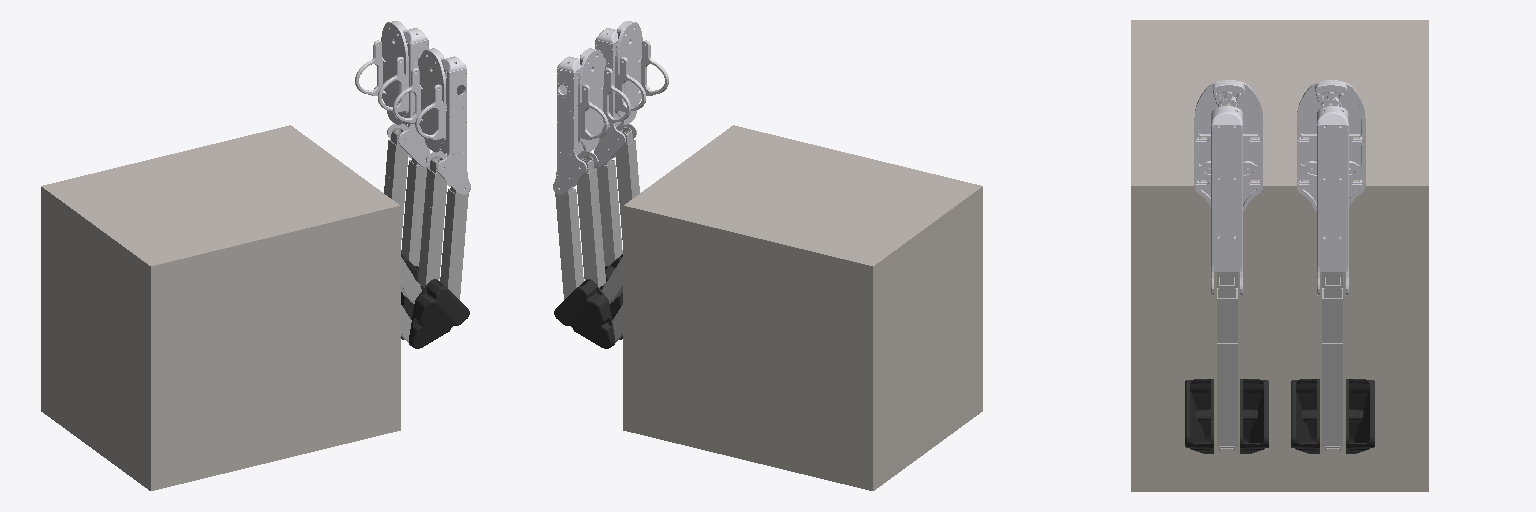
--- What the picture shows (computed from the rendered views, not written in the file) ---
Views: 3 orthographic renders of the robot side by side, from view 1: azimuth 30°, elevation 25°; view 2: azimuth 150°, elevation 25°; view 3: azimuth 270°, elevation 25°.
Model kp07_v11 with 27 links and 26 joints (18 revolute, 8 prismatic), rooted at base_link, posed every joint at zero.
Visible links, largest first — view 1: base_link, gr_link, ir_link, il_link, dr_link, er1_link, er2_link, el2_link, gl_link, el1_link; view 2: base_link, gl_link, il_link, ir_link, dl_link, el1_link, el2_link, er2_link, gr_link, er1_link; view 3: base_link, gr_link, gl_link, ir_link, il_link, dr_link, dl_link, er2_link, el2_link.
Boxes of the visible links, box(x1,y1,x2,y2) form: base_link: box(41, 125, 400, 490); gr_link: box(426, 56, 470, 194); ir_link: box(393, 48, 445, 152); il_link: box(355, 21, 408, 124); dr_link: box(401, 266, 469, 348); er1_link: box(418, 168, 446, 287); er2_link: box(440, 189, 468, 299); el2_link: box(401, 160, 429, 266); gl_link: box(387, 28, 429, 166); el1_link: box(384, 139, 407, 239); base_link: box(623, 125, 982, 490); gl_link: box(553, 56, 597, 194); il_link: box(578, 48, 630, 152); ir_link: box(615, 21, 668, 124); dl_link: box(554, 266, 622, 348); el1_link: box(577, 168, 605, 287); el2_link: box(555, 189, 583, 299); er2_link: box(594, 160, 622, 266); gr_link: box(594, 28, 636, 166); er1_link: box(616, 139, 639, 239); base_link: box(1131, 20, 1428, 491); gr_link: box(1211, 106, 1242, 295); gl_link: box(1317, 106, 1348, 295); ir_link: box(1194, 80, 1262, 211); il_link: box(1297, 80, 1365, 211); dr_link: box(1185, 379, 1268, 453); dl_link: box(1291, 379, 1374, 453); er2_link: box(1217, 288, 1237, 446); el2_link: box(1322, 288, 1342, 446).
Bounding box of the posed robot: 1.32 × 0.7175 × 1.21 m (x, y, z).
27 mesh visuals loaded from 27 distinct referenced files (27 binary STL).

URDF robot description (kp07_v11):
<?xml version="1.0" encoding="utf-8"?>
<!-- This URDF was automatically created by SolidWorks to URDF Exporter! Originally created by Stephen Brawner ([email redacted]) 
     Commit Version: 1.5.1-0-g916b5db  Build Version: 1.5.7152.31018
     For more information, please see http://wiki.ros.org/sw_urdf_exporter -->
<robot
  name="kp07_v11">
  <link
    name="base_link">
    <inertial>
      <origin
        xyz="0.104347088258263 -1.31663141229483E-05 0.412877049618646"
        rpy="0 0 0" />
      <mass
        value="63.617784647431" />
      <inertia
        ixx="2.30613127339914"
        ixy="-3.23512682348357E-06"
        ixz="0.00647034815101378"
        iyy="2.55487605799257"
        iyz="2.15081310232745E-05"
        izz="3.51350110023049" />
    </inertial>
    <visual>
      <origin
        xyz="0 0 0"
        rpy="0 0 0" />
      <geometry>
        <mesh
          filename="package://kp07_v11/meshes/base_link.STL" />
      </geometry>
      <material
        name="">
        <color
          rgba="0.780392156862745 0.76078431372549 0.741176470588235 1" />
      </material>
    </visual>
    <collision>
      <origin
        xyz="0 0 0"
        rpy="0 0 0" />
      <geometry>
        <mesh
          filename="package://kp07_v11/meshes/collision/base_link.STL" />
      </geometry>
    </collision>
  </link>
  <link
    name="ar_link">
    <inertial>
      <origin
        xyz="0.0128924732188366 1.20124064056926E-07 0.106969653014065"
        rpy="0 0 0" />
      <mass
        value="1.41326466643614" />
      <inertia
        ixx="0.00637579594524733"
        ixy="-2.27874975114171E-10"
        ixz="-3.10838664083599E-05"
        iyy="0.00710485711693362"
        iyz="3.11793798712309E-09"
        izz="0.0012877634442907" />
    </inertial>
    <visual>
      <origin
        xyz="0 0 0"
        rpy="0 0 0" />
      <geometry>
        <mesh
          filename="package://kp07_v11/meshes/ar_link.STL" />
      </geometry>
      <material
        name="">
        <color
          rgba="0.250980392156863 0.250980392156863 0.250980392156863 1" />
      </material>
    </visual>
    <collision>
      <origin
        xyz="0 0 0"
        rpy="0 0 0" />
      <geometry>
        <mesh
          filename="package://kp07_v11/meshes/collision/ar_link.STL" />
      </geometry>
    </collision>
  </link>
  <joint
    name="ar_joint"
    type="revolute">
    <origin
      xyz="0.37366 -0.127000000000001 0.518551908545377"
      rpy="0 0 0" />
    <parent
      link="base_link" />
    <child
      link="ar_link" />
    <axis
      xyz="0 0 1" />
    <limit
      lower="-0.5235987755983"
      upper="0.1745329251994"
      effort="0"
      velocity="0" />
  </joint>
  <link
    name="br1_link">
    <inertial>
      <origin
        xyz="0.197273849965391 -0.0368554040691015 3.52116507005285E-05"
        rpy="0 0 0" />
      <mass
        value="0.628578692324578" />
      <inertia
        ixx="0.000480821788218691"
        ixy="2.32649044477467E-10"
        ixz="2.1487123800855E-05"
        iyy="0.00883230225110044"
        iyz="-4.40062897755076E-10"
        izz="0.0088328322950843" />
    </inertial>
    <visual>
      <origin
        xyz="0 0 0"
        rpy="0 0 0" />
      <geometry>
        <mesh
          filename="package://kp07_v11/meshes/br1_link.STL" />
      </geometry>
      <material
        name="">
        <color
          rgba="0.752941176470588 0.752941176470588 0.752941176470588 1" />
      </material>
    </visual>
    <collision>
      <origin
        xyz="0 0 0"
        rpy="0 0 0" />
      <geometry>
        <mesh
          filename="package://kp07_v11/meshes/collision/br1_link.STL" />
      </geometry>
    </collision>
  </link>
  <joint
    name="br1_joint"
    type="revolute">
    <origin
      xyz="0.0520700000000001 0.0368554 0.18415"
      rpy="0 1.04719755119658 0" />
    <parent
      link="ar_link" />
    <child
      link="br1_link" />
    <axis
      xyz="0 1 0" />
    <limit
      lower="-1.6581"
      upper="0"
      effort="0"
      velocity="0" />
  </joint>
  <link
    name="cr1_link">
    <inertial>
      <origin
        xyz="0.287629872273466 -0.0368554012777096 1.74653669304803E-09"
        rpy="0 0 0" />
      <mass
        value="0.264532899917141" />
      <inertia
        ixx="0.000113008901120391"
        ixy="3.6780530005675E-14"
        ixz="-1.10059165015494E-13"
        iyy="0.00189696858662353"
        iyz="1.42608282734562E-10"
        izz="0.00189622601190326" />
    </inertial>
    <visual>
      <origin
        xyz="0 0 0"
        rpy="0 0 0" />
      <geometry>
        <mesh
          filename="package://kp07_v11/meshes/cr1_link.STL" />
      </geometry>
      <material
        name="">
        <color
          rgba="0.752941176470588 0.752941176470588 0.752941176470588 1" />
      </material>
    </visual>
    <collision>
      <origin
        xyz="0 0 0"
        rpy="0 0 0" />
      <geometry>
        <mesh
          filename="package://kp07_v11/meshes/collision/cr1_link.STL" />
      </geometry>
    </collision>
  </link>
  <joint
    name="cr1_joint"
    type="prismatic">
    <origin
      xyz="0 0 0"
      rpy="0 0 0" />
    <parent
      link="br1_link" />
    <child
      link="cr1_link" />
    <axis
      xyz="-1 0 0" />
    <limit
      lower="-0.2032"
      upper="0"
      effort="0"
      velocity="0" />
  </joint>
  <link
    name="dr_link">
    <inertial>
      <origin
        xyz="-0.00480632422544791 -0.0443760029405194 -0.0584944354296074"
        rpy="0 0 0" />
      <mass
        value="1.23586993122048" />
      <inertia
        ixx="0.0026347115469991"
        ixy="2.74555755908124E-06"
        ixz="-0.000381855113248733"
        iyy="0.00632749739276202"
        iyz="3.21857067102264E-08"
        izz="0.00396838633976449" />
    </inertial>
    <visual>
      <origin
        xyz="0 0 0"
        rpy="0 0 0" />
      <geometry>
        <mesh
          filename="package://kp07_v11/meshes/dr_link.STL" />
      </geometry>
      <material
        name="">
        <color
          rgba="0.250980392156863 0.250980392156863 0.250980392156863 1" />
      </material>
    </visual>
    <collision>
      <origin
        xyz="0 0 0"
        rpy="0 0 0" />
      <geometry>
        <mesh
          filename="package://kp07_v11/meshes/collision/dr_link.STL" />
      </geometry>
    </collision>
  </link>
  <joint
    name="dr_joint"
    type="revolute">
    <origin
      xyz="0.422909999999999 0.00724460000000335 0"
      rpy="3.14159265358979 -1.30899693899576 -3.14159265358978" />
    <parent
      link="cr1_link" />
    <child
      link="dr_link" />
    <axis
      xyz="0 -1 0" />
    <limit
      lower="0"
      upper="0"
      effort="0"
      velocity="0" />
    <mimic
      joint="br1_joint"
      multiplier="1"
      offset="0" />
  </joint>
  <link
    name="er1_link">
    <inertial>
      <origin
        xyz="0.197462427551641 -0.0441000049675959 3.52118762203535E-05"
        rpy="0 0 0" />
      <mass
        value="0.628578614911236" />
      <inertia
        ixx="0.000480821732350888"
        ixy="3.88545609569003E-10"
        ixz="1.85256624635079E-05"
        iyy="0.00886033158264318"
        iyz="-4.03176549344408E-10"
        izz="0.00886086163260815" />
    </inertial>
    <visual>
      <origin
        xyz="0 0 0"
        rpy="0 0 0" />
      <geometry>
        <mesh
          filename="package://kp07_v11/meshes/er1_link.STL" />
      </geometry>
      <material
        name="">
        <color
          rgba="0.752941176470588 0.752941176470588 0.752941176470588 1" />
      </material>
    </visual>
    <collision>
      <origin
        xyz="0 0 0"
        rpy="0 0 0" />
      <geometry>
        <mesh
          filename="package://kp07_v11/meshes/collision/er1_link.STL" />
      </geometry>
    </collision>
  </link>
  <joint
    name="er1_joint"
    type="revolute">
    <origin
      xyz="0.0634999999999999 0 0"
      rpy="0 -0.698131700796877 0" />
    <parent
      link="dr_link" />
    <child
      link="er1_link" />
    <axis
      xyz="0 -1 0" />
    <limit
      lower="-1.5359"
      upper="0"
      effort="0"
      velocity="0" />
  </joint>
  <link
    name="fr1_link">
    <inertial>
      <origin
        xyz="0.287629873543023 -0.0440999994468661 -7.56109952426698E-10"
        rpy="0 0 0" />
      <mass
        value="0.264532899870709" />
      <inertia
        ixx="0.000113008901231924"
        ixy="-9.79621206724693E-14"
        ixz="1.34441212536764E-13"
        iyy="0.00189696858726913"
        iyz="1.42663912351205E-10"
        izz="0.00189622601241865" />
    </inertial>
    <visual>
      <origin
        xyz="0 0 0"
        rpy="0 0 0" />
      <geometry>
        <mesh
          filename="package://kp07_v11/meshes/fr1_link.STL" />
      </geometry>
      <material
        name="">
        <color
          rgba="0.752941176470588 0.752941176470588 0.752941176470588 1" />
      </material>
    </visual>
    <collision>
      <origin
        xyz="0 0 0"
        rpy="0 0 0" />
      <geometry>
        <mesh
          filename="package://kp07_v11/meshes/collision/fr1_link.STL" />
      </geometry>
    </collision>
  </link>
  <joint
    name="fr1_joint"
    type="prismatic">
    <origin
      xyz="0 0 0"
      rpy="0 0 0" />
    <parent
      link="er1_link" />
    <child
      link="fr1_link" />
    <axis
      xyz="-1 0 0" />
    <limit
      lower="-0.2032"
      upper="0"
      effort="0"
      velocity="0" />
  </joint>
  <link
    name="gr_link">
    <inertial>
      <origin
        xyz="0.0536405972413051 -0.0388873797221277 0.133133817696428"
        rpy="0 0 0" />
      <mass
        value="1.20944868233744" />
      <inertia
        ixx="0.0178453547045186"
        ixy="-1.03609806662696E-09"
        ixz="-9.50289495372822E-05"
        iyy="0.0181466063907535"
        iyz="4.61305123428106E-09"
        izz="0.000838588084364453" />
    </inertial>
    <visual>
      <origin
        xyz="0 0 0"
        rpy="0 0 0" />
      <geometry>
        <mesh
          filename="package://kp07_v11/meshes/gr_link.STL" />
      </geometry>
      <material
        name="">
        <color
          rgba="0.866666666666667 0.866666666666667 0.890196078431372 1" />
      </material>
    </visual>
    <collision>
      <origin
        xyz="0 0 0"
        rpy="0 0 0" />
      <geometry>
        <mesh
          filename="package://kp07_v11/meshes/collision/gr_link.STL" />
      </geometry>
    </collision>
  </link>
  <joint
    name="gr_joint"
    type="revolute">
    <origin
      xyz="0.422910000000001 -0.00521260000000021 0"
      rpy="0 1.48352986419433 0" />
    <parent
      link="fr1_link" />
    <child
      link="gr_link" />
    <axis
      xyz="0 1 0" />
    <limit
      lower="0"
      upper="0"
      effort="0"
      velocity="0" />
    <mimic
      joint="er1_joint"
      multiplier="1"
      offset="0" />
  </joint>
  <link
    name="hr_link">
    <inertial>
      <origin
        xyz="-0.0355450949347614 0.00337348530946446 -0.0663048175633467"
        rpy="0 0 0" />
      <mass
        value="0.320125825644217" />
      <inertia
        ixx="0.000853590950472643"
        ixy="1.69087202220965E-06"
        ixz="5.60427115857386E-06"
        iyy="0.000847100550217572"
        iyz="2.79851650088369E-12"
        izz="5.25773414725343E-05" />
    </inertial>
    <visual>
      <origin
        xyz="0 0 0"
        rpy="0 0 0" />
      <geometry>
        <mesh
          filename="package://kp07_v11/meshes/hr_link.STL" />
      </geometry>
      <material
        name="">
        <color
          rgba="0.866666666666667 0.866666666666667 0.890196078431372 1" />
      </material>
    </visual>
    <collision>
      <origin
        xyz="0 0 0"
        rpy="0 0 0" />
      <geometry>
        <mesh
          filename="package://kp07_v11/meshes/collision/hr_link.STL" />
      </geometry>
    </collision>
  </link>
  <joint
    name="hr_joint"
    type="revolute">
    <origin
      xyz="0.0392430000000002 -0.0388874000000003 0.338614737937696"
      rpy="0 0 0" />
    <parent
      link="gr_link" />
    <child
      link="hr_link" />
    <axis
      xyz="0 0 1" />
    <limit
      lower="-0.1745329251994"
      upper="0.5235987755983"
      effort="0"
      velocity="0" />
  </joint>
  <link
    name="ir_link">
    <inertial>
      <origin
        xyz="-0.00299618963479142 1.23195868978465E-07 -0.103166056624998"
        rpy="0 0 0" />
      <mass
        value="0.985700306160896" />
      <inertia
        ixx="0.0093656951041299"
        ixy="-1.0251241815842E-10"
        ixz="-6.98362537630003E-05"
        iyy="0.00786271941633994"
        iyz="-4.09079579988436E-10"
        izz="0.00184482425678644" />
    </inertial>
    <visual>
      <origin
        xyz="0 0 0"
        rpy="0 0 0" />
      <geometry>
        <mesh
          filename="package://kp07_v11/meshes/ir_link.STL" />
      </geometry>
      <material
        name="">
        <color
          rgba="0.866666666666667 0.866666666666667 0.890196078431372 1" />
      </material>
    </visual>
    <collision>
      <origin
        xyz="0 0 0"
        rpy="0 0 0" />
      <geometry>
        <mesh
          filename="package://kp07_v11/meshes/collision/ir_link.STL" />
      </geometry>
    </collision>
  </link>
  <joint
    name="ir_joint"
    type="revolute">
    <origin
      xyz="-0.0630696672483271 0.00384854413384111 0.00428526206230417"
      rpy="0 0 0" />
    <parent
      link="hr_link" />
    <child
      link="ir_link" />
    <axis
      xyz="-1 0 0" />
    <limit
      lower="-0.1745329251994"
      upper="0.1745329251994"
      effort="0"
      velocity="0" />
  </joint>
  <link
    name="er2_link">
    <inertial>
      <origin
        xyz="0.197462429120894 -0.0440999940453563 -3.52105417904536E-05"
        rpy="0 0 0" />
      <mass
        value="0.628578624405718" />
      <inertia
        ixx="0.000480821738675714"
        ixy="-3.75185410856228E-10"
        ixz="-1.85256435126848E-05"
        iyy="0.00886033170293825"
        iyz="-4.0489025887678E-10"
        izz="0.00886086175355616" />
    </inertial>
    <visual>
      <origin
        xyz="0 0 0"
        rpy="0 0 0" />
      <geometry>
        <mesh
          filename="package://kp07_v11/meshes/er2_link.STL" />
      </geometry>
      <material
        name="">
        <color
          rgba="0.752941176470588 0.752941176470588 0.752941176470588 1" />
      </material>
    </visual>
    <collision>
      <origin
        xyz="0 0 0"
        rpy="0 0 0" />
      <geometry>
        <mesh
          filename="package://kp07_v11/meshes/collision/er2_link.STL" />
      </geometry>
    </collision>
  </link>
  <joint
    name="er2_joint"
    type="revolute">
    <origin
      xyz="0.0529846596374948 0 -0.120190890324769"
      rpy="0 -0.698131700796878 0" />
    <parent
      link="dr_link" />
    <child
      link="er2_link" />
    <axis
      xyz="0 -1 0" />
    <limit
      lower="0"
      upper="0"
      effort="0"
      velocity="0" />
    <mimic
      joint="er1_joint"
      multiplier="1"
      offset="0" />
  </joint>
  <link
    name="fr2_link">
    <inertial>
      <origin
        xyz="0.287629873543023 -0.0440999994468663 -7.56109952426698E-10"
        rpy="0 0 0" />
      <mass
        value="0.264532899870703" />
      <inertia
        ixx="0.000113008901231921"
        ixy="-9.79610517149318E-14"
        ixz="1.34439195751317E-13"
        iyy="0.00189696858726909"
        iyz="1.42663911398839E-10"
        izz="0.00189622601241861" />
    </inertial>
    <visual>
      <origin
        xyz="0 0 0"
        rpy="0 0 0" />
      <geometry>
        <mesh
          filename="package://kp07_v11/meshes/fr2_link.STL" />
      </geometry>
      <material
        name="">
        <color
          rgba="0.752941176470588 0.752941176470588 0.752941176470588 1" />
      </material>
    </visual>
    <collision>
      <origin
        xyz="0 0 0"
        rpy="0 0 0" />
      <geometry>
        <mesh
          filename="package://kp07_v11/meshes/collision/fr2_link.STL" />
      </geometry>
    </collision>
  </link>
  <joint
    name="fr2_joint"
    type="prismatic">
    <origin
      xyz="0 0 0"
      rpy="0 0 0" />
    <parent
      link="er2_link" />
    <child
      link="fr2_link" />
    <axis
      xyz="-1 0 0" />
    <limit
      lower="0"
      upper="0"
      effort="0"
      velocity="0" />
    <mimic
      joint="fr1_joint"
      multiplier="1"
      offset="0" />
  </joint>
  <link
    name="br2_link">
    <inertial>
      <origin
        xyz="0.197273847661975 -0.0368553984092451 -3.52150001771134E-05"
        rpy="0 0 0" />
      <mass
        value="0.628578680959621" />
      <inertia
        ixx="0.000480821780569167"
        ixy="-2.51386241371685E-10"
        ixz="-2.14871507066869E-05"
        iyy="0.00883230204805584"
        iyz="-4.37982873029519E-10"
        izz="0.0088328320913368" />
    </inertial>
    <visual>
      <origin
        xyz="0 0 0"
        rpy="0 0 0" />
      <geometry>
        <mesh
          filename="package://kp07_v11/meshes/br2_link.STL" />
      </geometry>
      <material
        name="">
        <color
          rgba="0.752941176470588 0.752941176470588 0.752941176470588 1" />
      </material>
    </visual>
    <collision>
      <origin
        xyz="0 0 0"
        rpy="0 0 0" />
      <geometry>
        <mesh
          filename="package://kp07_v11/meshes/collision/br2_link.STL" />
      </geometry>
    </collision>
  </link>
  <joint
    name="br2_joint"
    type="revolute">
    <origin
      xyz="0.0289140155081158 0.0368554 0.0528258861358218"
      rpy="0 1.04719755119658 0" />
    <parent
      link="ar_link" />
    <child
      link="br2_link" />
    <axis
      xyz="0 1 0" />
    <limit
      lower="0"
      upper="0"
      effort="0"
      velocity="0" />
    <mimic
      joint="br1_joint"
      multiplier="1"
      offset="0" />
  </joint>
  <link
    name="cr2_link">
    <inertial>
      <origin
        xyz="0.287629872273465 -0.0368554012777118 1.74653747020415E-09"
        rpy="0 0 0" />
      <mass
        value="0.264532899917143" />
      <inertia
        ixx="0.000113008901120392"
        ixy="3.6792746927376E-14"
        ixz="-1.10059907015829E-13"
        iyy="0.00189696858662352"
        iyz="1.42608284249518E-10"
        izz="0.00189622601190326" />
    </inertial>
    <visual>
      <origin
        xyz="0 0 0"
        rpy="0 0 0" />
      <geometry>
        <mesh
          filename="package://kp07_v11/meshes/cr2_link.STL" />
      </geometry>
      <material
        name="">
        <color
          rgba="0.752941176470588 0.752941176470588 0.752941176470588 1" />
      </material>
    </visual>
    <collision>
      <origin
        xyz="0 0 0"
        rpy="0 0 0" />
      <geometry>
        <mesh
          filename="package://kp07_v11/meshes/collision/cr2_link.STL" />
      </geometry>
    </collision>
  </link>
  <joint
    name="cr2_joint"
    type="prismatic">
    <origin
      xyz="0 0 0"
      rpy="0 0 0" />
    <parent
      link="br2_link" />
    <child
      link="cr2_link" />
    <axis
      xyz="-1 0 0" />
    <limit
      lower="0"
      upper="0"
      effort="0"
      velocity="0" />
    <mimic
      joint="cr1_joint"
      multiplier="1"
      offset="0" />
  </joint>
  <link
    name="al_link">
    <inertial>
      <origin
        xyz="0.0128924732188366 1.20124064584282E-07 0.106969653014066"
        rpy="0 0 0" />
      <mass
        value="1.41326466643614" />
      <inertia
        ixx="0.00637579594524731"
        ixy="-2.27874977995626E-10"
        ixz="-3.10838664083575E-05"
        iyy="0.00710485711693361"
        iyz="3.11793799037392E-09"
        izz="0.0012877634442907" />
    </inertial>
    <visual>
      <origin
        xyz="0 0 0"
        rpy="0 0 0" />
      <geometry>
        <mesh
          filename="package://kp07_v11/meshes/al_link.STL" />
      </geometry>
      <material
        name="">
        <color
          rgba="0.250980392156863 0.250980392156863 0.250980392156863 1" />
      </material>
    </visual>
    <collision>
      <origin
        xyz="0 0 0"
        rpy="0 0 0" />
      <geometry>
        <mesh
          filename="package://kp07_v11/meshes/collision/al_link.STL" />
      </geometry>
    </collision>
  </link>
  <joint
    name="al_joint"
    type="revolute">
    <origin
      xyz="0.37366 0.127 0.518551908545377"
      rpy="0 0 0" />
    <parent
      link="base_link" />
    <child
      link="al_link" />
    <axis
      xyz="0 0 1" />
    <limit
      lower="-0.1745329251994"
      upper="0.5235987755983"
      effort="0"
      velocity="0" />
  </joint>
  <link
    name="bl1_link">
    <inertial>
      <origin
        xyz="0.19727384996539 -0.0368554040691033 3.52116507004174E-05"
        rpy="0 0 0" />
      <mass
        value="0.628578692324575" />
      <inertia
        ixx="0.000480821788218688"
        ixy="2.32649101771789E-10"
        ixz="2.14871238008619E-05"
        iyy="0.00883230225110046"
        iyz="-4.40062898070931E-10"
        izz="0.00883283229508432" />
    </inertial>
    <visual>
      <origin
        xyz="0 0 0"
        rpy="0 0 0" />
      <geometry>
        <mesh
          filename="package://kp07_v11/meshes/bl1_link.STL" />
      </geometry>
      <material
        name="">
        <color
          rgba="0.752941176470588 0.752941176470588 0.752941176470588 1" />
      </material>
    </visual>
    <collision>
      <origin
        xyz="0 0 0"
        rpy="0 0 0" />
      <geometry>
        <mesh
          filename="package://kp07_v11/meshes/collision/bl1_link.STL" />
      </geometry>
    </collision>
  </link>
  <joint
    name="bl1_joint"
    type="revolute">
    <origin
      xyz="0.0520699999999999 0.0368554 0.18415"
      rpy="0 1.04719755119659 0" />
    <parent
      link="al_link" />
    <child
      link="bl1_link" />
    <axis
      xyz="0 1 0" />
    <limit
      lower="-1.6580627893946"
      upper="0"
      effort="0"
      velocity="0" />
  </joint>
  <link
    name="cl1_link">
    <inertial>
      <origin
        xyz="0.287629872273464 -0.036855401277712 1.74653702611494E-09"
        rpy="0 0 0" />
      <mass
        value="0.264532899917143" />
      <inertia
        ixx="0.000113008901120392"
        ixy="3.6793698760718E-14"
        ixz="-1.10056525660622E-13"
        iyy="0.00189696858662352"
        iyz="1.426082840827E-10"
        izz="0.00189622601190326" />
    </inertial>
    <visual>
      <origin
        xyz="0 0 0"
        rpy="0 0 0" />
      <geometry>
        <mesh
          filename="package://kp07_v11/meshes/cl1_link.STL" />
      </geometry>
      <material
        name="">
        <color
          rgba="0.752941176470588 0.752941176470588 0.752941176470588 1" />
      </material>
    </visual>
    <collision>
      <origin
        xyz="0 0 0"
        rpy="0 0 0" />
      <geometry>
        <mesh
          filename="package://kp07_v11/meshes/collision/cl1_link.STL" />
      </geometry>
    </collision>
  </link>
  <joint
    name="cl1_joint"
    type="prismatic">
    <origin
      xyz="0 0 0"
      rpy="0 0 0" />
    <parent
      link="bl1_link" />
    <child
      link="cl1_link" />
    <axis
      xyz="-1 0 0" />
    <limit
      lower="-0.2032"
      upper="0"
      effort="0"
      velocity="0" />
  </joint>
  <link
    name="dl_link">
    <inertial>
      <origin
        xyz="-0.00480632422544847 -0.0443760029405199 -0.0584944354296069"
        rpy="0 0 0" />
      <mass
        value="1.23586993122048" />
      <inertia
        ixx="0.0026347115469991"
        ixy="2.74555755908469E-06"
        ixz="-0.000381855113248731"
        iyy="0.00632749739276201"
        iyz="3.2185706709633E-08"
        izz="0.00396838633976448" />
    </inertial>
    <visual>
      <origin
        xyz="0 0 0"
        rpy="0 0 0" />
      <geometry>
        <mesh
          filename="package://kp07_v11/meshes/dl_link.STL" />
      </geometry>
      <material
        name="">
        <color
          rgba="0.250980392156863 0.250980392156863 0.250980392156863 1" />
      </material>
    </visual>
    <collision>
      <origin
        xyz="0 0 0"
        rpy="0 0 0" />
      <geometry>
        <mesh
          filename="package://kp07_v11/meshes/collision/dl_link.STL" />
      </geometry>
    </collision>
  </link>
  <joint
    name="dl_joint"
    type="revolute">
    <origin
      xyz="0.42291 0.00724460000000129 0"
      rpy="3.14159265358979 -1.30899693899575 -3.14159265358979" />
    <parent
      link="cl1_link" />
    <child
      link="dl_link" />
    <axis
      xyz="0 -1 0" />
    <limit
      lower="0"
      upper="0"
      effort="0"
      velocity="0" />
    <mimic
      joint="bl1_joint"
      multiplier="1"
      offset="0" />
  </joint>
  <link
    name="el1_link">
    <inertial>
      <origin
        xyz="0.197462427551641 -0.0441000049675966 3.5211876222907E-05"
        rpy="0 0 0" />
      <mass
        value="0.628578614911236" />
      <inertia
        ixx="0.000480821732350888"
        ixy="3.88545619765834E-10"
        ixz="1.85256624635144E-05"
        iyy="0.0088603315826432"
        iyz="-4.03176548745518E-10"
        izz="0.00886086163260816" />
    </inertial>
    <visual>
      <origin
        xyz="0 0 0"
        rpy="0 0 0" />
      <geometry>
        <mesh
          filename="package://kp07_v11/meshes/el1_link.STL" />
      </geometry>
      <material
        name="">
        <color
          rgba="0.752941176470588 0.752941176470588 0.752941176470588 1" />
      </material>
    </visual>
    <collision>
      <origin
        xyz="0 0 0"
        rpy="0 0 0" />
      <geometry>
        <mesh
          filename="package://kp07_v11/meshes/collision/el1_link.STL" />
      </geometry>
    </collision>
  </link>
  <joint
    name="el1_joint"
    type="revolute">
    <origin
      xyz="0.0635000000000012 0 0"
      rpy="0 -0.698131700796892 0" />
    <parent
      link="dl_link" />
    <child
      link="el1_link" />
    <axis
      xyz="0 -1 0" />
    <limit
      lower="-1.5359"
      upper="0"
      effort="0"
      velocity="0" />
  </joint>
  <link
    name="fl1_link">
    <inertial>
      <origin
        xyz="0.287629873543023 -0.0440999994468674 -7.56108176069858E-10"
        rpy="0 0 0" />
      <mass
        value="0.264532899870707" />
      <inertia
        ixx="0.000113008901231923"
        ixy="-9.79611918298471E-14"
        ixz="1.34436215889446E-13"
        iyy="0.00189696858726914"
        iyz="1.42663912841155E-10"
        izz="0.00189622601241865" />
    </inertial>
    <visual>
      <origin
        xyz="0 0 0"
        rpy="0 0 0" />
      <geometry>
        <mesh
          filename="package://kp07_v11/meshes/fl1_link.STL" />
      </geometry>
      <material
        name="">
        <color
          rgba="0.752941176470588 0.752941176470588 0.752941176470588 1" />
      </material>
    </visual>
    <collision>
      <origin
        xyz="0 0 0"
        rpy="0 0 0" />
      <geometry>
        <mesh
          filename="package://kp07_v11/meshes/collision/fl1_link.STL" />
      </geometry>
    </collision>
  </link>
  <joint
    name="fl1_joint"
    type="prismatic">
    <origin
      xyz="0 0 0"
      rpy="0 0 0" />
    <parent
      link="el1_link" />
    <child
      link="fl1_link" />
    <axis
      xyz="-1 0 0" />
    <limit
      lower="-0.2032"
      upper="0"
      effort="0"
      velocity="0" />
  </joint>
  <link
    name="gl_link">
    <inertial>
      <origin
        xyz="0.0536405972413049 -0.0388873797221277 0.133133817696428"
        rpy="0 0 0" />
      <mass
        value="1.20944868233744" />
      <inertia
        ixx="0.0178453547045186"
        ixy="-1.03609806677826E-09"
        ixz="-9.50289495372725E-05"
        iyy="0.0181466063907535"
        iyz="4.61305122480908E-09"
        izz="0.000838588084364452" />
    </inertial>
    <visual>
      <origin
        xyz="0 0 0"
        rpy="0 0 0" />
      <geometry>
        <mesh
          filename="package://kp07_v11/meshes/gl_link.STL" />
      </geometry>
      <material
        name="">
        <color
          rgba="0.866666666666667 0.866666666666667 0.890196078431372 1" />
      </material>
    </visual>
    <collision>
      <origin
        xyz="0 0 0"
        rpy="0 0 0" />
      <geometry>
        <mesh
          filename="package://kp07_v11/meshes/collision/gl_link.STL" />
      </geometry>
    </collision>
  </link>
  <joint
    name="gl_joint"
    type="revolute">
    <origin
      xyz="0.42291 -0.00521260000000123 0"
      rpy="0 1.48352986419434 0" />
    <parent
      link="fl1_link" />
    <child
      link="gl_link" />
    <axis
      xyz="0 1 0" />
    <limit
      lower="0"
      upper="0"
      effort="0"
      velocity="0" />
    <mimic
      joint="el1_joint"
      multiplier="1"
      offset="0" />
  </joint>
  <link
    name="hl_link">
    <inertial>
      <origin
        xyz="-0.0355450949347615 -0.00337348530946467 -0.0663048174910308"
        rpy="0 0 0" />
      <mass
        value="0.320125825644217" />
      <inertia
        ixx="0.000853590950472643"
        ixy="-1.69087202220967E-06"
        ixz="5.60426889927419E-06"
        iyy="0.000847100550217572"
        iyz="2.79851670841906E-12"
        izz="5.25773414725343E-05" />
    </inertial>
    <visual>
      <origin
        xyz="0 0 0"
        rpy="0 0 0" />
      <geometry>
        <mesh
          filename="package://kp07_v11/meshes/hl_link.STL" />
      </geometry>
      <material
        name="">
        <color
          rgba="0.866666666666667 0.866666666666667 0.890196078431372 1" />
      </material>
    </visual>
    <collision>
      <origin
        xyz="0 0 0"
        rpy="0 0 0" />
      <geometry>
        <mesh
          filename="package://kp07_v11/meshes/collision/hl_link.STL" />
      </geometry>
    </collision>
  </link>
  <joint
    name="hl_joint"
    type="revolute">
    <origin
      xyz="0.0392429999999999 -0.0388874000000001 0.338614737937695"
      rpy="0 0 0" />
    <parent
      link="gl_link" />
    <child
      link="hl_link" />
    <axis
      xyz="0 0 1" />
    <limit
      lower="-0.5235987755983"
      upper="0.1745329251994"
      effort="0"
      velocity="0" />
  </joint>
  <link
    name="il_link">
    <inertial>
      <origin
        xyz="-0.0029961896347912 1.23195868895198E-07 -0.103166056624997"
        rpy="0 0 0" />
      <mass
        value="0.985700306160895" />
      <inertia
        ixx="0.00936569510412989"
        ixy="-1.02512418842277E-10"
        ixz="-6.98362537630007E-05"
        iyy="0.00786271941633994"
        iyz="-4.09079588154357E-10"
        izz="0.00184482425678645" />
    </inertial>
    <visual>
      <origin
        xyz="0 0 0"
        rpy="0 0 0" />
      <geometry>
        <mesh
          filename="package://kp07_v11/meshes/il_link.STL" />
      </geometry>
      <material
        name="">
        <color
          rgba="0.866666666666667 0.866666666666667 0.890196078431372 1" />
      </material>
    </visual>
    <collision>
      <origin
        xyz="0 0 0"
        rpy="0 0 0" />
      <geometry>
        <mesh
          filename="package://kp07_v11/meshes/collision/il_link.STL" />
      </geometry>
    </collision>
  </link>
  <joint
    name="il_joint"
    type="revolute">
    <origin
      xyz="-0.063069667248327 -0.00384854413384136 0.0042852620623044"
      rpy="0 0 0" />
    <parent
      link="hl_link" />
    <child
      link="il_link" />
    <axis
      xyz="-1 0 0" />
    <limit
      lower="-0.1745329251994"
      upper="0.1745329251994"
      effort="0"
      velocity="0" />
  </joint>
  <link
    name="el2_link">
    <inertial>
      <origin
        xyz="0.197462429120893 -0.0440999940453572 -3.52105417880111E-05"
        rpy="0 0 0" />
      <mass
        value="0.62857862440572" />
      <inertia
        ixx="0.000480821738675714"
        ixy="-3.75185413187621E-10"
        ixz="-1.85256435126917E-05"
        iyy="0.00886033170293837"
        iyz="-4.04890259090114E-10"
        izz="0.00886086175355628" />
    </inertial>
    <visual>
      <origin
        xyz="0 0 0"
        rpy="0 0 0" />
      <geometry>
        <mesh
          filename="package://kp07_v11/meshes/el2_link.STL" />
      </geometry>
      <material
        name="">
        <color
          rgba="0.752941176470588 0.752941176470588 0.752941176470588 1" />
      </material>
    </visual>
    <collision>
      <origin
        xyz="0 0 0"
        rpy="0 0 0" />
      <geometry>
        <mesh
          filename="package://kp07_v11/meshes/collision/el2_link.STL" />
      </geometry>
    </collision>
  </link>
  <joint
    name="el2_joint"
    type="revolute">
    <origin
      xyz="0.0529846596374962 0 -0.12019089032477"
      rpy="0 -0.698131700796892 0" />
    <parent
      link="dl_link" />
    <child
      link="el2_link" />
    <axis
      xyz="0 -1 0" />
    <limit
      lower="0"
      upper="0"
      effort="0"
      velocity="0" />
    <mimic
      joint="el1_joint"
      multiplier="1"
      offset="0" />
  </joint>
  <link
    name="fl2_link">
    <inertial>
      <origin
        xyz="0.287629873543023 -0.044099999446867 -7.56107620958346E-10"
        rpy="0 0 0" />
      <mass
        value="0.264532899870712" />
      <inertia
        ixx="0.000113008901231925"
        ixy="-9.79613794067714E-14"
        ixz="1.3443617692593E-13"
        iyy="0.00189696858726916"
        iyz="1.42663911728801E-10"
        izz="0.00189622601241867" />
    </inertial>
    <visual>
      <origin
        xyz="0 0 0"
        rpy="0 0 0" />
      <geometry>
        <mesh
          filename="package://kp07_v11/meshes/fl2_link.STL" />
      </geometry>
      <material
        name="">
        <color
          rgba="0.752941176470588 0.752941176470588 0.752941176470588 1" />
      </material>
    </visual>
    <collision>
      <origin
        xyz="0 0 0"
        rpy="0 0 0" />
      <geometry>
        <mesh
          filename="package://kp07_v11/meshes/collision/fl2_link.STL" />
      </geometry>
    </collision>
  </link>
  <joint
    name="fl2_joint"
    type="prismatic">
    <origin
      xyz="0 0 0"
      rpy="0 0 0" />
    <parent
      link="el2_link" />
    <child
      link="fl2_link" />
    <axis
      xyz="-1 0 0" />
    <limit
      lower="0"
      upper="0"
      effort="0"
      velocity="0" />
    <mimic
      joint="fl1_joint"
      multiplier="1"
      offset="0" />
  </joint>
  <link
    name="bl2_link">
    <inertial>
      <origin
        xyz="0.197273847661975 -0.0368553984092451 -3.52150001770024E-05"
        rpy="0 0 0" />
      <mass
        value="0.628578680959621" />
      <inertia
        ixx="0.000480821780569165"
        ixy="-2.51386238753428E-10"
        ixz="-2.14871507066947E-05"
        iyy="0.00883230204805588"
        iyz="-4.37982869402687E-10"
        izz="0.00883283209133683" />
    </inertial>
    <visual>
      <origin
        xyz="0 0 0"
        rpy="0 0 0" />
      <geometry>
        <mesh
          filename="package://kp07_v11/meshes/bl2_link.STL" />
      </geometry>
      <material
        name="">
        <color
          rgba="0.752941176470588 0.752941176470588 0.752941176470588 1" />
      </material>
    </visual>
    <collision>
      <origin
        xyz="0 0 0"
        rpy="0 0 0" />
      <geometry>
        <mesh
          filename="package://kp07_v11/meshes/collision/bl2_link.STL" />
      </geometry>
    </collision>
  </link>
  <joint
    name="bl2_joint"
    type="revolute">
    <origin
      xyz="0.0289140155081157 0.0368554 0.052825886135822"
      rpy="0 1.04719755119659 0" />
    <parent
      link="al_link" />
    <child
      link="bl2_link" />
    <axis
      xyz="0 1 0" />
    <limit
      lower="0"
      upper="0"
      effort="0"
      velocity="0" />
    <mimic
      joint="bl1_joint"
      multiplier="1"
      offset="0" />
  </joint>
  <link
    name="cl2_link">
    <inertial>
      <origin
        xyz="0.287629872273466 -0.0368554012777118 1.74653724815954E-09"
        rpy="0 0 0" />
      <mass
        value="0.264532899917147" />
      <inertia
        ixx="0.000113008901120393"
        ixy="3.67933623407858E-14"
        ixz="-1.10060130632846E-13"
        iyy="0.00189696858662356"
        iyz="1.42608284660636E-10"
        izz="0.0018962260119033" />
    </inertial>
    <visual>
      <origin
        xyz="0 0 0"
        rpy="0 0 0" />
      <geometry>
        <mesh
          filename="package://kp07_v11/meshes/cl2_link.STL" />
      </geometry>
      <material
        name="">
        <color
          rgba="0.752941176470588 0.752941176470588 0.752941176470588 1" />
      </material>
    </visual>
    <collision>
      <origin
        xyz="0 0 0"
        rpy="0 0 0" />
      <geometry>
        <mesh
          filename="package://kp07_v11/meshes/collision/cl2_link.STL" />
      </geometry>
    </collision>
  </link>
  <joint
    name="cl2_joint"
    type="prismatic">
    <origin
      xyz="0 0 0"
      rpy="0 0 0" />
    <parent
      link="bl2_link" />
    <child
      link="cl2_link" />
    <axis
      xyz="-1 0 0" />
    <limit
      lower="0"
      upper="0"
      effort="0"
      velocity="0" />
    <mimic
      joint="cl1_joint"
      multiplier="1"
      offset="0" />
  </joint>
</robot>
